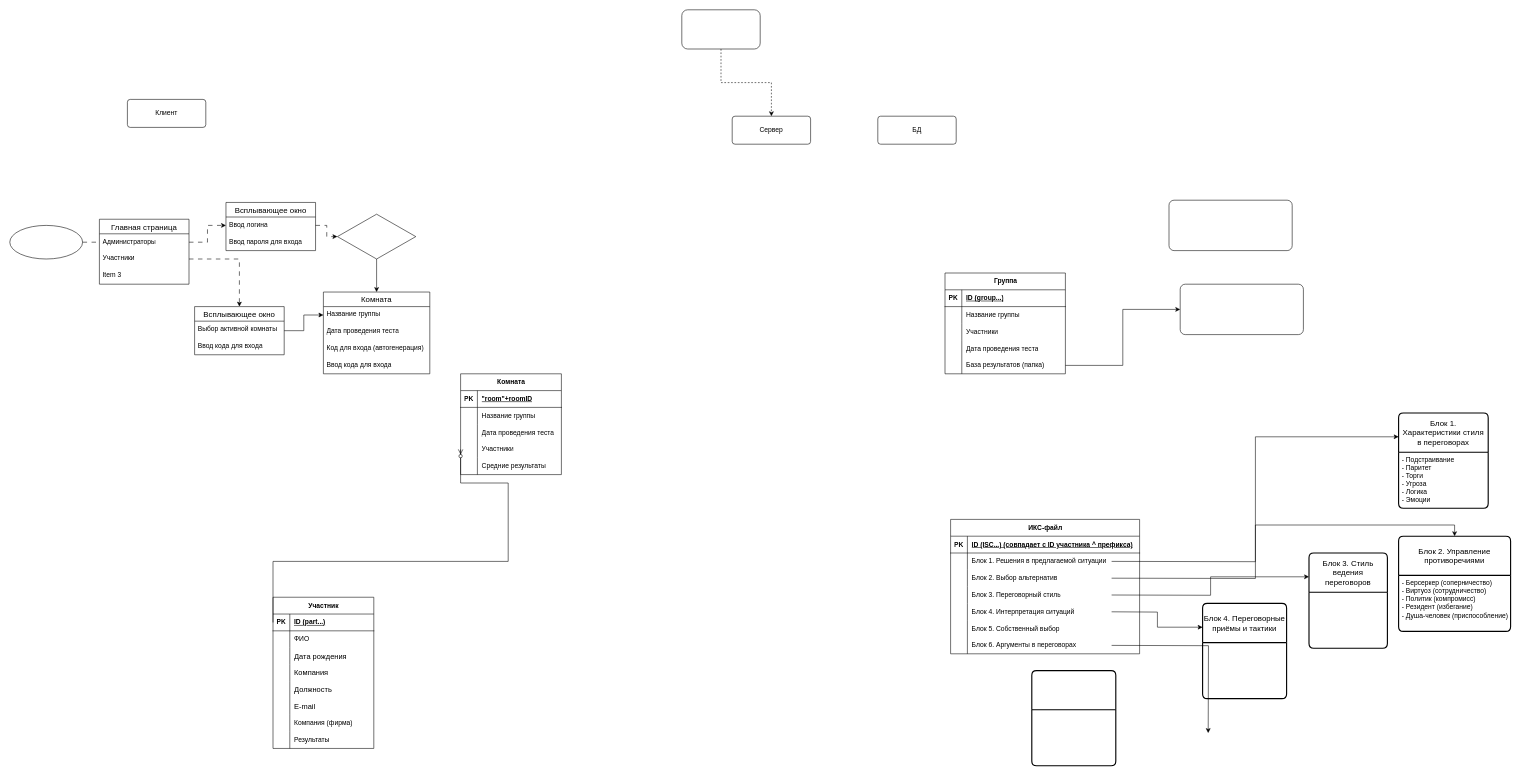
This 1521x776 diagram has some shape labels left out. The centre of each missing label's shape, as x and y in pixels:
Аутентификация по хеш-коду: (x=46, y=242)
База результатов (txt-файлы) Отмеченный ответ: 1 Неотмеченный ответ: 0: (x=1241, y=309)
Блок 5. Аргументы в переговорах: (x=1073, y=718)
небольшой тестовый сайт можно запустить даже на локальной машине: (x=720, y=29)
Расчётный модуль Класс = Блок: (x=1230, y=225)
Создают комнаты (хосты): (x=376, y=236)
